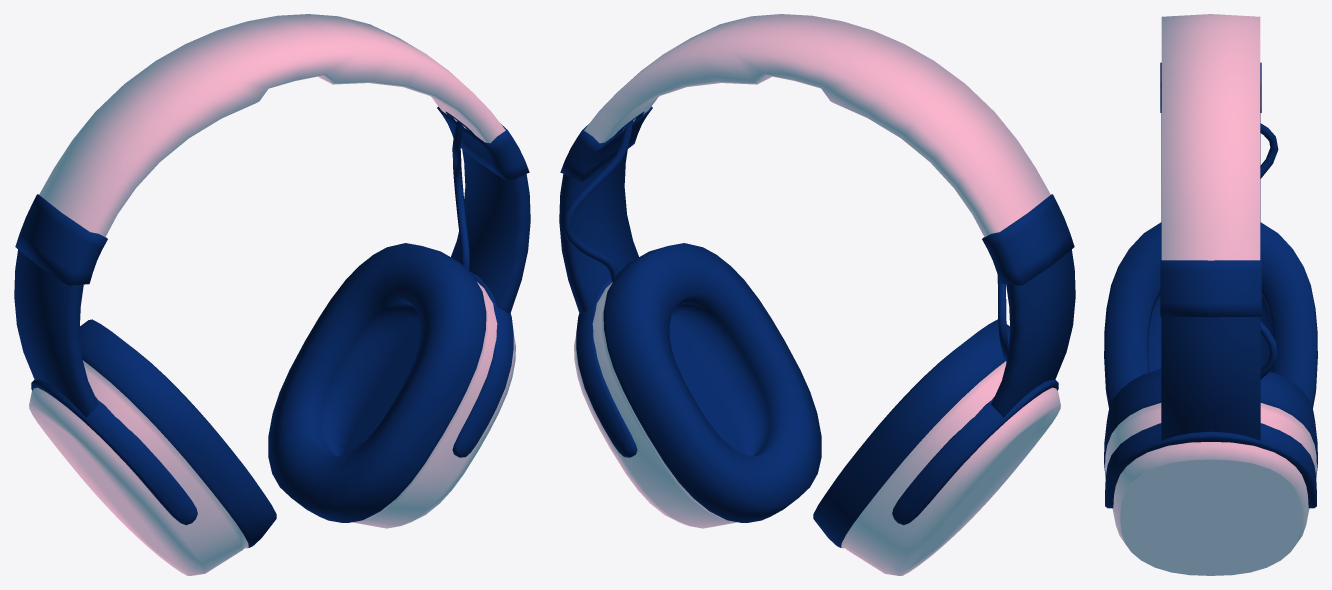
The model's file is Headphones.fbx.
The picture shows the model from 3 angles, left to right: view 1: azimuth 30°, elevation 25°; view 2: azimuth 150°, elevation 25°; view 3: azimuth 270°, elevation 25°; orthographic projection. The views are drawn at different scales.
Visible parts, largest first — view 1: cushion_Plane_002, top_Plane_001, base_001_Plane_005, outer_Plane_004, inner_headphone_Plane_003; view 2: cushion_Plane_002, top_Plane_001, base_001_Plane_005, outer_Plane_004, inner_headphone_Plane_003; view 3: top_Plane_001, outer_Plane_004, base_001_Plane_005, cushion_Plane_002, inner_headphone_Plane_003.
Boxes of the visible parts, bbox=[...] form: cushion_Plane_002: bbox=[79, 243, 486, 547]; top_Plane_001: bbox=[39, 14, 505, 237]; base_001_Plane_005: bbox=[14, 106, 530, 525]; outer_Plane_004: bbox=[29, 282, 515, 575]; inner_headphone_Plane_003: bbox=[332, 309, 420, 455]; cushion_Plane_002: bbox=[603, 243, 1010, 547]; top_Plane_001: bbox=[584, 14, 1050, 237]; base_001_Plane_005: bbox=[559, 106, 1075, 525]; outer_Plane_004: bbox=[574, 282, 1060, 575]; inner_headphone_Plane_003: bbox=[669, 309, 757, 455]; top_Plane_001: bbox=[1161, 14, 1260, 260]; outer_Plane_004: bbox=[1105, 403, 1316, 575]; base_001_Plane_005: bbox=[1105, 62, 1316, 508]; cushion_Plane_002: bbox=[1104, 222, 1317, 477]; inner_headphone_Plane_003: bbox=[1148, 295, 1273, 372].
Size of the model in its own units: 181 by 186 by 73.94.
